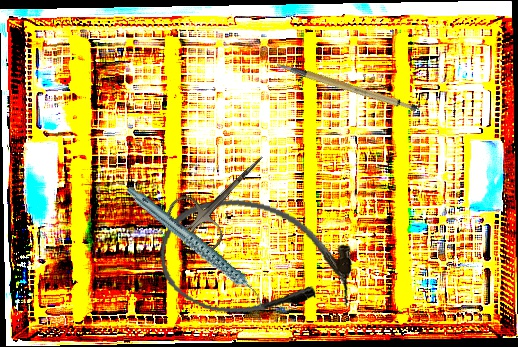Cannula: (151, 188, 362, 333)
Handpiece: (125, 163, 267, 330)
Iris Scissors: (161, 135, 286, 258)
Scalpel Handle: (275, 40, 420, 131)
